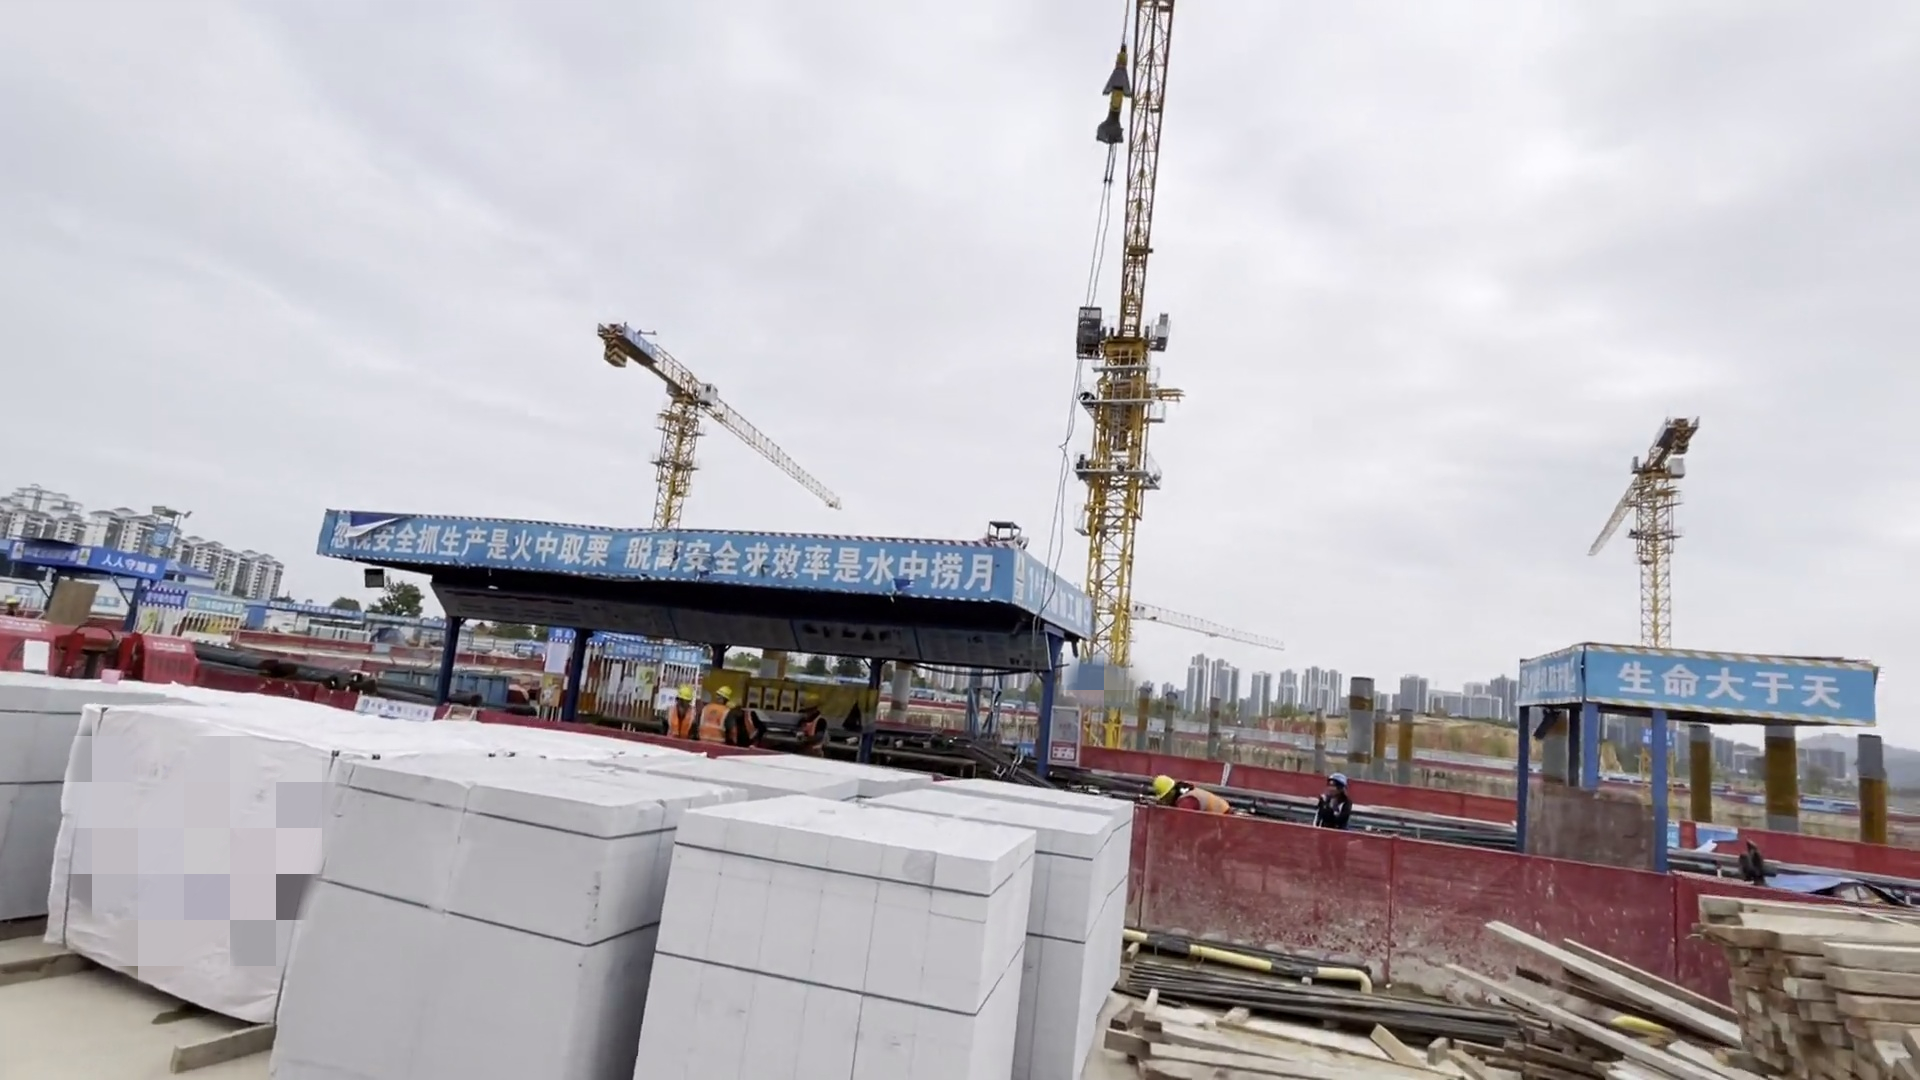helmet: (1148, 763, 1175, 804), (1319, 763, 1355, 790), (664, 682, 694, 710), (712, 681, 741, 699)
person: (1141, 755, 1242, 827), (651, 672, 699, 756), (700, 676, 750, 753), (785, 678, 827, 766), (1314, 755, 1354, 832)
vest: (659, 707, 697, 753), (1182, 787, 1229, 819), (697, 700, 728, 743), (793, 718, 824, 753), (725, 712, 754, 747)
